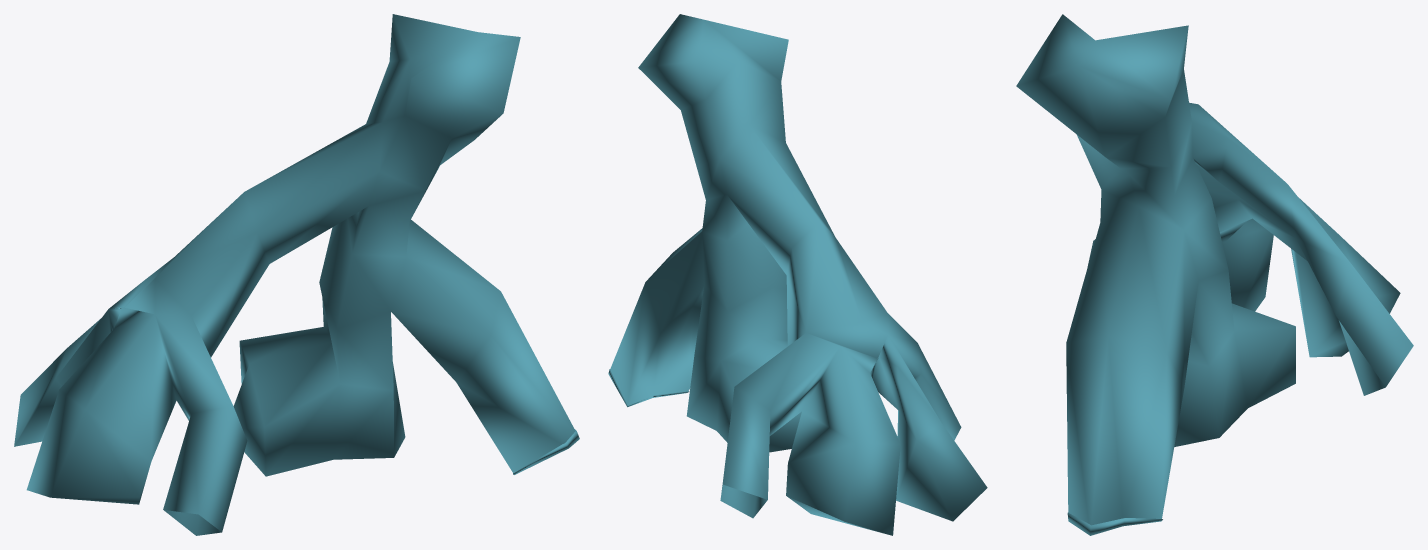
3 views of the same model, side by side, from view 1: azimuth 30°, elevation 25°; view 2: azimuth 150°, elevation 25°; view 3: azimuth 270°, elevation 25° (orthographic). The views are drawn at different scales.
Visible parts, largest first — view 1: roots1.005; view 2: roots1.005; view 3: roots1.005.
Part boxes in pixels (left/top/right/bottom): roots1.005: left=14, top=14, right=579, bottom=535; roots1.005: left=608, top=14, right=987, bottom=535; roots1.005: left=1016, top=14, right=1413, bottom=535.
Size of the model in its own units: 643 by 582 by 448.
